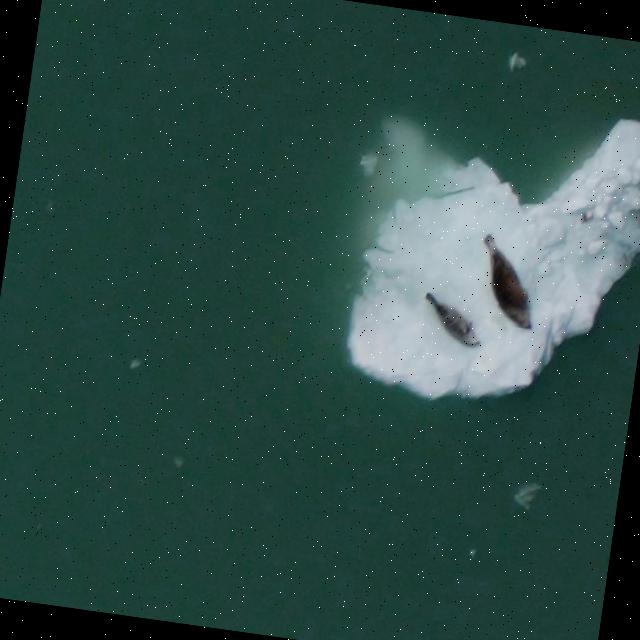seal: (462, 235, 552, 340), (419, 290, 489, 355)
